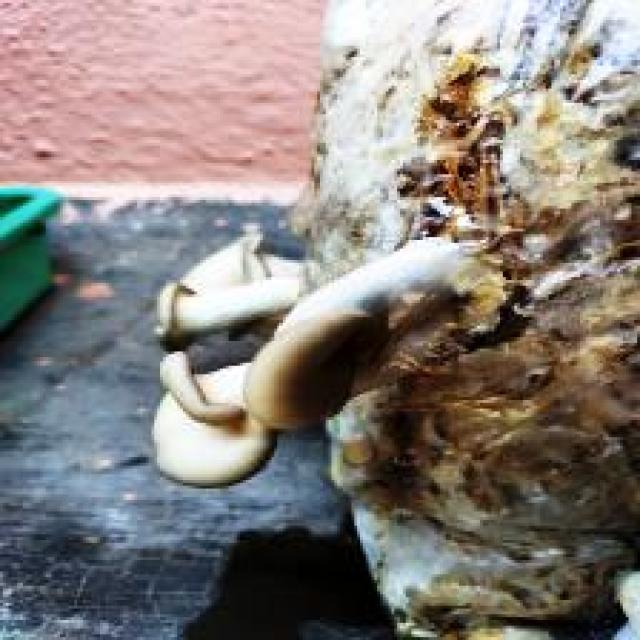chanterelle: (151, 0, 640, 637)
